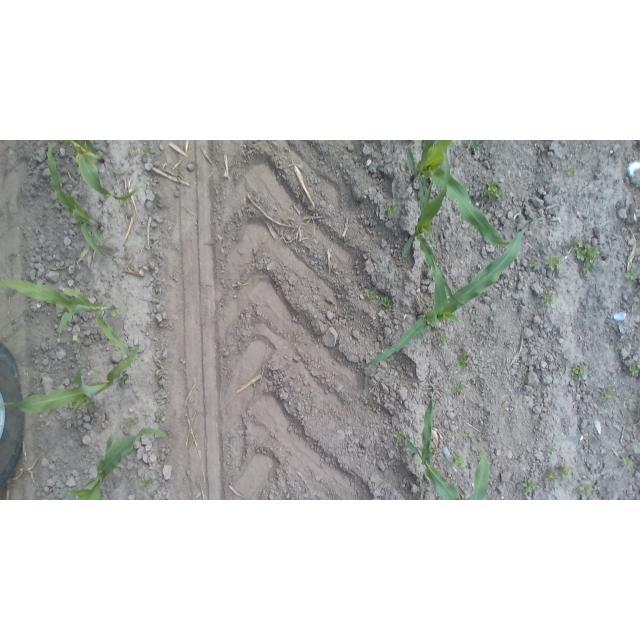Maize: (364, 225, 529, 371), (396, 140, 514, 246), (0, 341, 142, 423), (0, 272, 128, 360), (403, 390, 495, 500), (405, 146, 456, 322), (56, 424, 170, 501), (38, 140, 111, 260), (63, 141, 149, 200)
Weeds: (571, 236, 601, 276), (480, 177, 509, 207), (622, 263, 640, 287), (572, 362, 591, 382), (544, 254, 563, 273), (456, 348, 473, 368), (538, 290, 554, 311), (518, 475, 536, 492), (383, 202, 401, 219), (138, 474, 155, 492), (601, 385, 617, 403), (451, 380, 468, 396), (542, 468, 558, 484), (575, 482, 593, 496), (620, 455, 638, 469), (558, 465, 574, 480), (391, 430, 406, 445), (84, 401, 100, 415), (564, 166, 581, 179), (628, 359, 640, 377), (433, 332, 447, 347), (140, 145, 153, 161), (379, 295, 392, 309), (362, 399, 378, 410), (452, 454, 465, 467), (490, 317, 503, 330), (155, 412, 168, 425), (126, 416, 138, 429), (527, 258, 538, 271), (363, 290, 375, 301), (551, 442, 562, 454), (118, 197, 129, 208)
